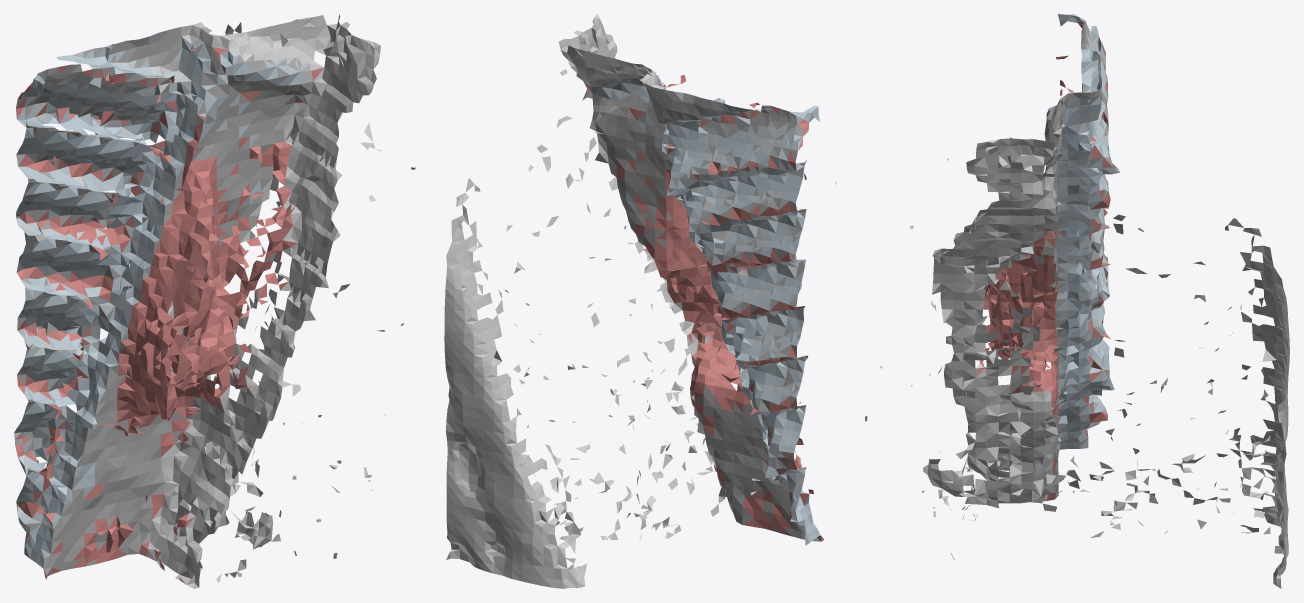
File: B173-뜬면-1__lt_dynnow_ALS_s0__before.glb
3 views of the same model, side by side, from view 1: azimuth 30°, elevation 25°; view 2: azimuth 150°, elevation 25°; view 3: azimuth 270°, elevation 25° (orthographic). The views are drawn at different scales.
Size of the model in its own units: 21.68 by 34.39 by 29.51.
